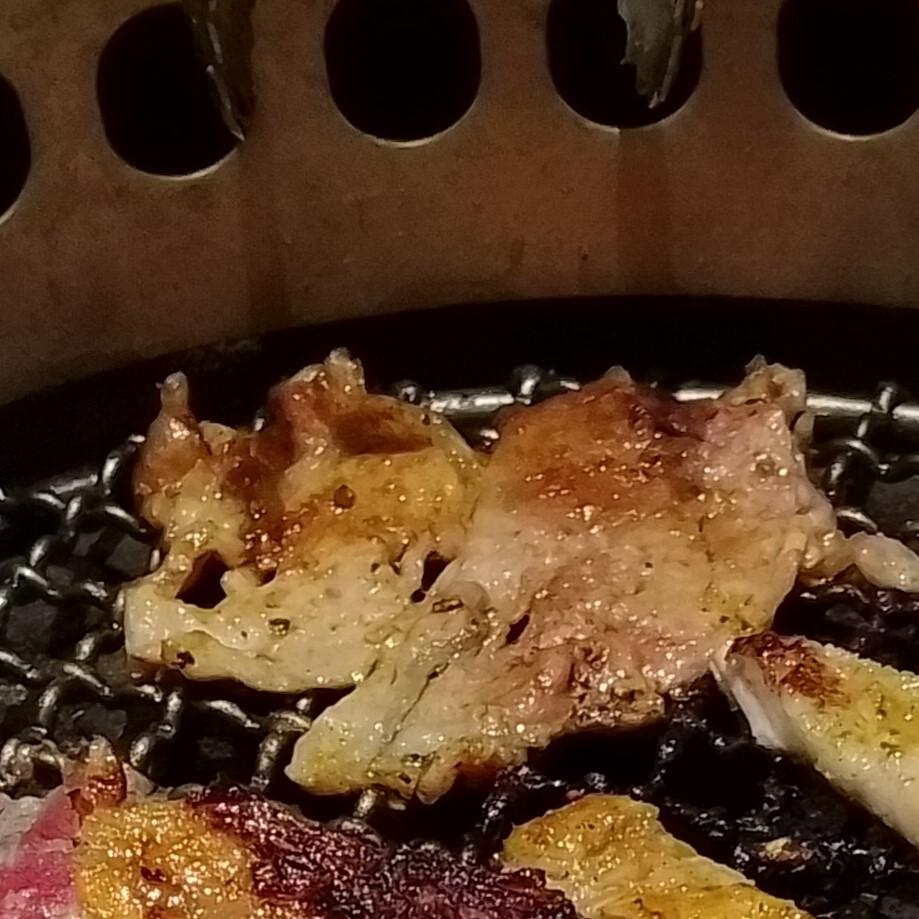Overcooked: (69, 791, 581, 918)
Well-Cooked: (283, 361, 840, 819), (120, 355, 489, 695), (714, 634, 918, 856), (500, 796, 814, 918)
